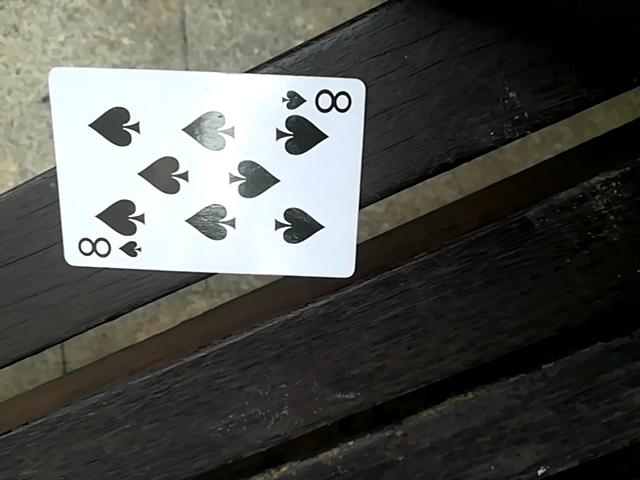ht 8: (49, 64, 368, 283)
